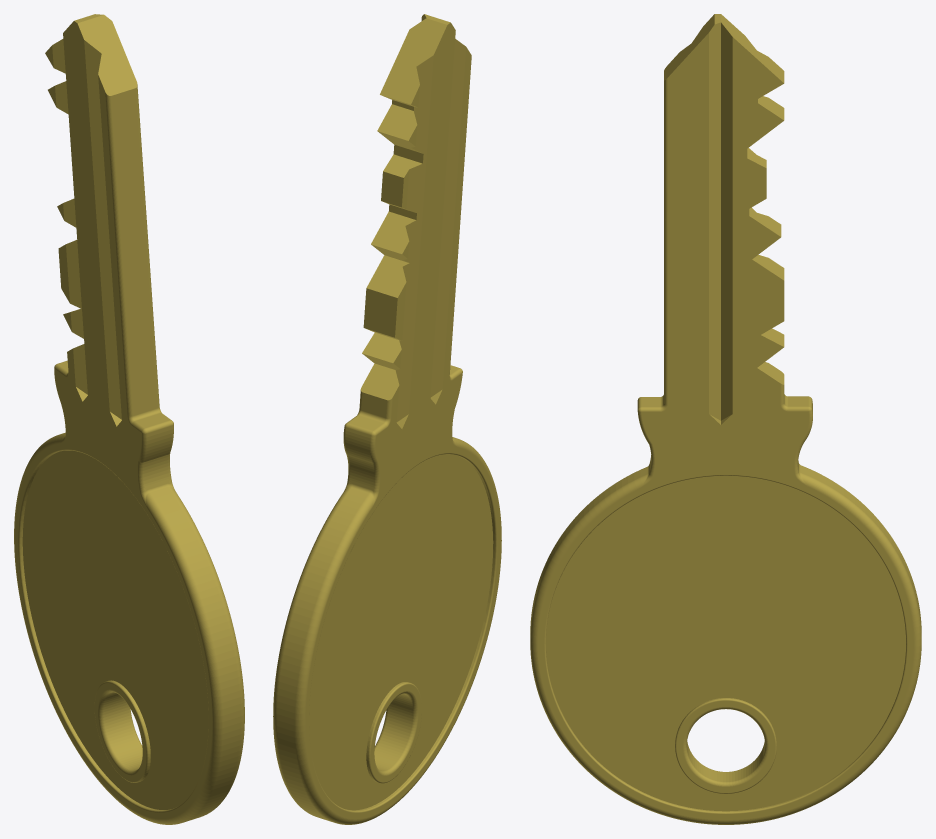
File: Key.fbx
3 views of the same model, side by side, from view 1: azimuth 30°, elevation 25°; view 2: azimuth 150°, elevation 25°; view 3: azimuth 270°, elevation 25° (orthographic). The views are drawn at different scales.
Parts seen in each view (by area): view 1: KEY; view 2: KEY; view 3: KEY.
Part boxes in pixels (left/top/right/bottom): KEY: left=14, top=14, right=244, bottom=824; KEY: left=273, top=14, right=501, bottom=824; KEY: left=530, top=14, right=921, bottom=824.
Size of the model in its own units: 608 by 5471 by 2500.
